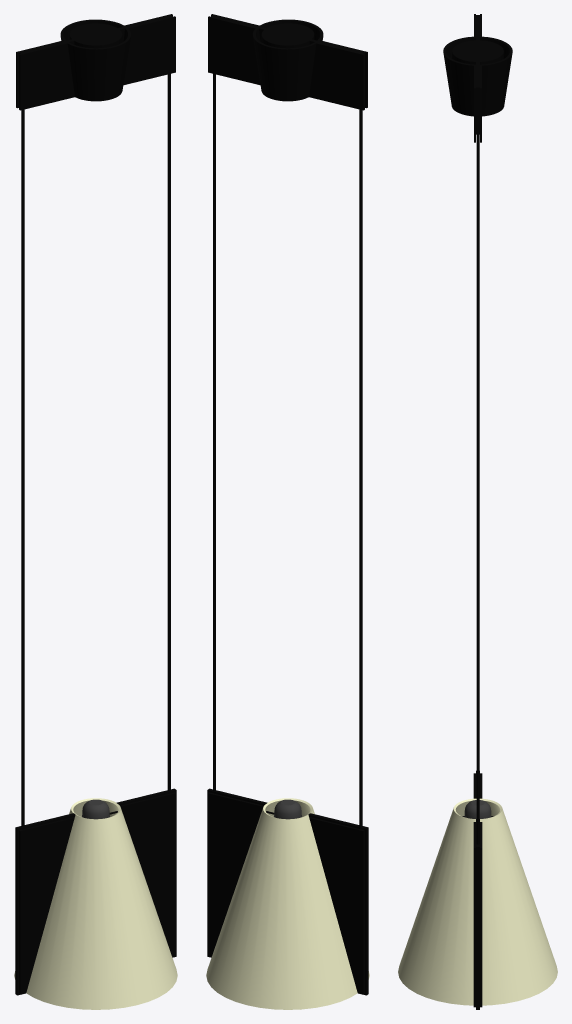
File: hangingLight.FBX
3 views of the same model, side by side, from view 1: azimuth 30°, elevation 25°; view 2: azimuth 150°, elevation 25°; view 3: azimuth 270°, elevation 25° (orthographic). The views are drawn at different scales.
Parts seen in each view (by area): view 1: Lamp; view 2: Lamp; view 3: Lamp.
Part boxes in pixels (box(x1,y1,x2,y2)): Lamp: box(14, 14, 177, 1009); Lamp: box(206, 14, 369, 1009); Lamp: box(398, 14, 557, 1009).
Size of the model in its own units: 22.5 by 127 by 20.
